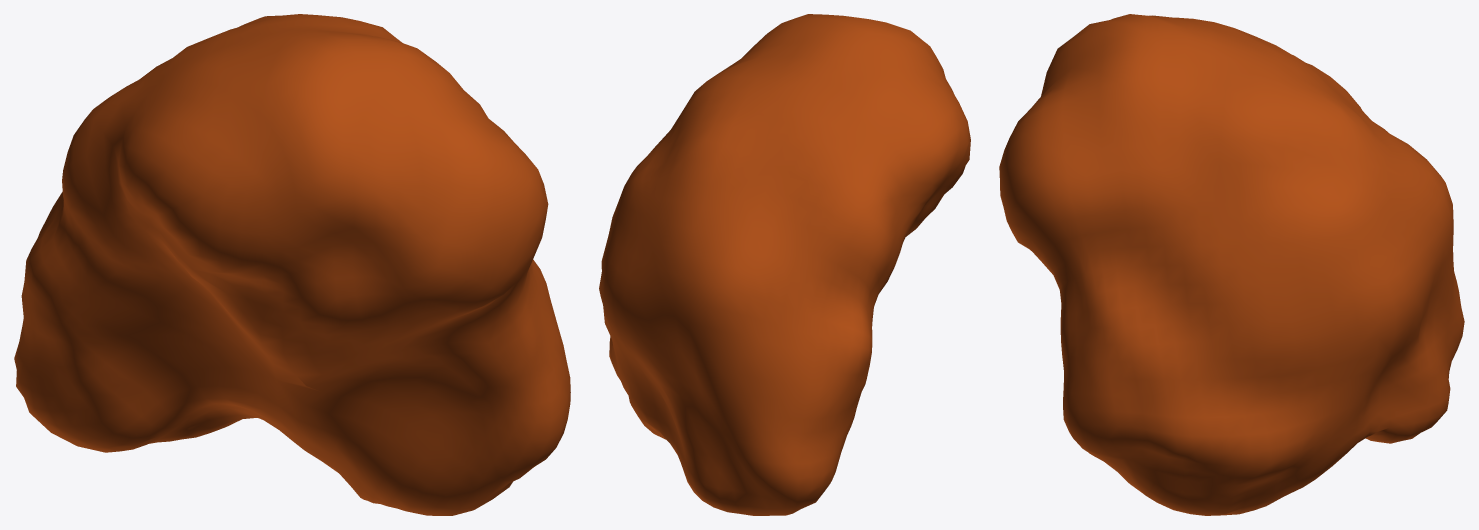
Rendered from stone1.fbx.
The picture shows the model from 3 angles, left to right: view 1: azimuth 30°, elevation 25°; view 2: azimuth 150°, elevation 25°; view 3: azimuth 270°, elevation 25°; orthographic projection. The views are drawn at different scales.
Visible parts, largest first — view 1: rock.004; view 2: rock.004; view 3: rock.004.
Boxes of the visible parts, x1,y1,x2,y2 form: rock.004: [14, 14, 570, 515]; rock.004: [599, 14, 970, 515]; rock.004: [999, 14, 1464, 515].
Bounding box in the file's own units: 58.31 × 71.72 × 70.05.
